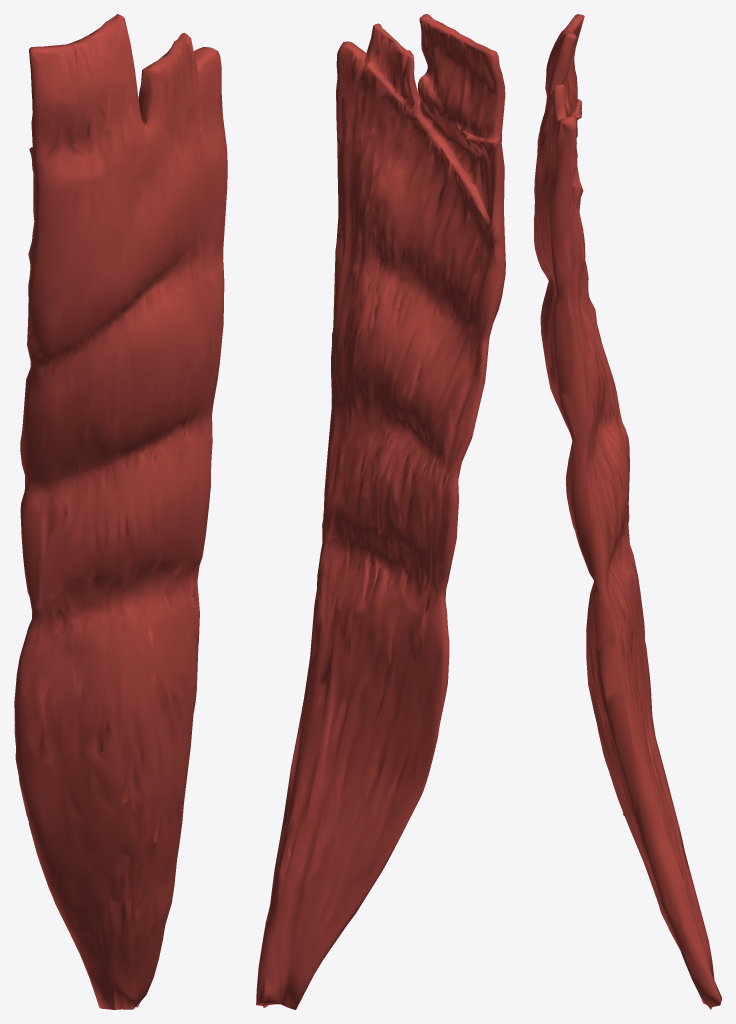
File: musculos-rectus-abdominis-muscle-r.glb
3 views of the same model, side by side, from view 1: azimuth 30°, elevation 25°; view 2: azimuth 150°, elevation 25°; view 3: azimuth 270°, elevation 25° (orthographic). The views are drawn at different scales.
Visible parts, largest first — view 1: Rectus abdominis muscle.r; view 2: Rectus abdominis muscle.r; view 3: Rectus abdominis muscle.r.
Boxes of the visible parts, x1=… form: Rectus abdominis muscle.r: x1=14, y1=14, x2=227, y2=1009; Rectus abdominis muscle.r: x1=256, y1=14, x2=505, y2=1009; Rectus abdominis muscle.r: x1=534, y1=14, x2=721, y2=1009.
Bounding box in the file's own units: 0.0787 × 0.4085 × 0.0745.
